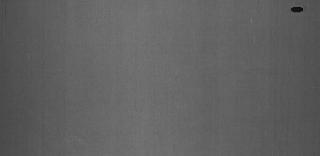punching hole: (289, 4, 305, 14)
